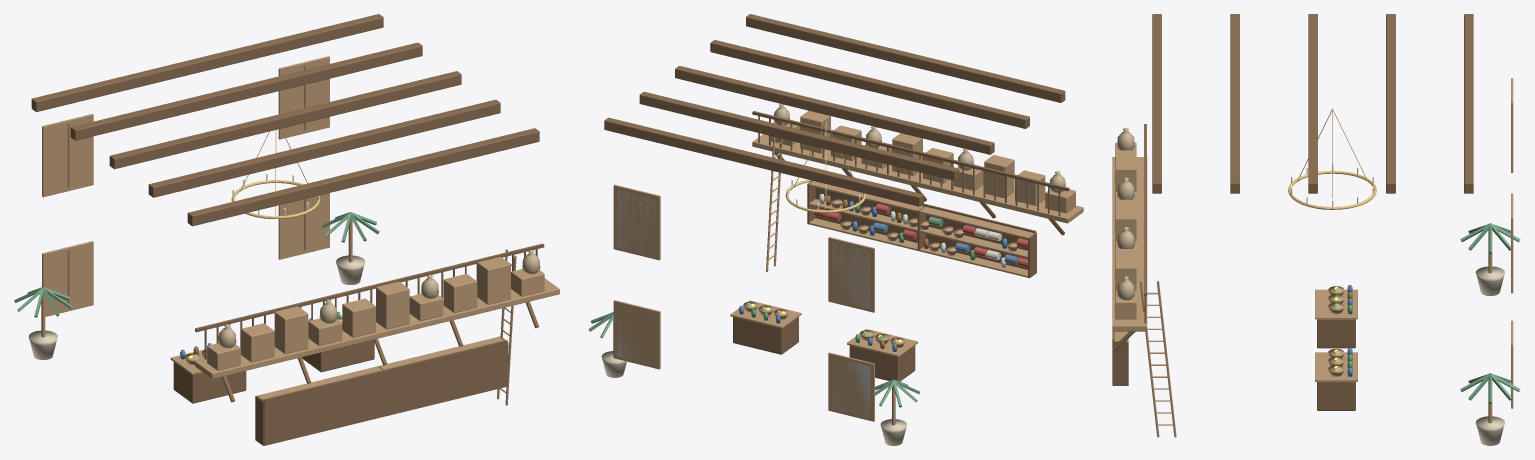
File: store_big_room.glb
The picture shows the model from 3 angles, left to right: view 1: azimuth 30°, elevation 25°; view 2: azimuth 150°, elevation 25°; view 3: azimuth 270°, elevation 25°; orthographic projection. The views are drawn at different scales.
Parts seen in each view (by area): view 1: store_big_room; view 2: store_big_room; view 3: store_big_room.
Boxes of the visible parts, x1,y1,x2,y2 form: store_big_room: (14,14,559,445); store_big_room: (588,14,1083,445); store_big_room: (1112,14,1520,445).
Bounding box in the file's own units: 10.65 × 7.6 × 10.48.
